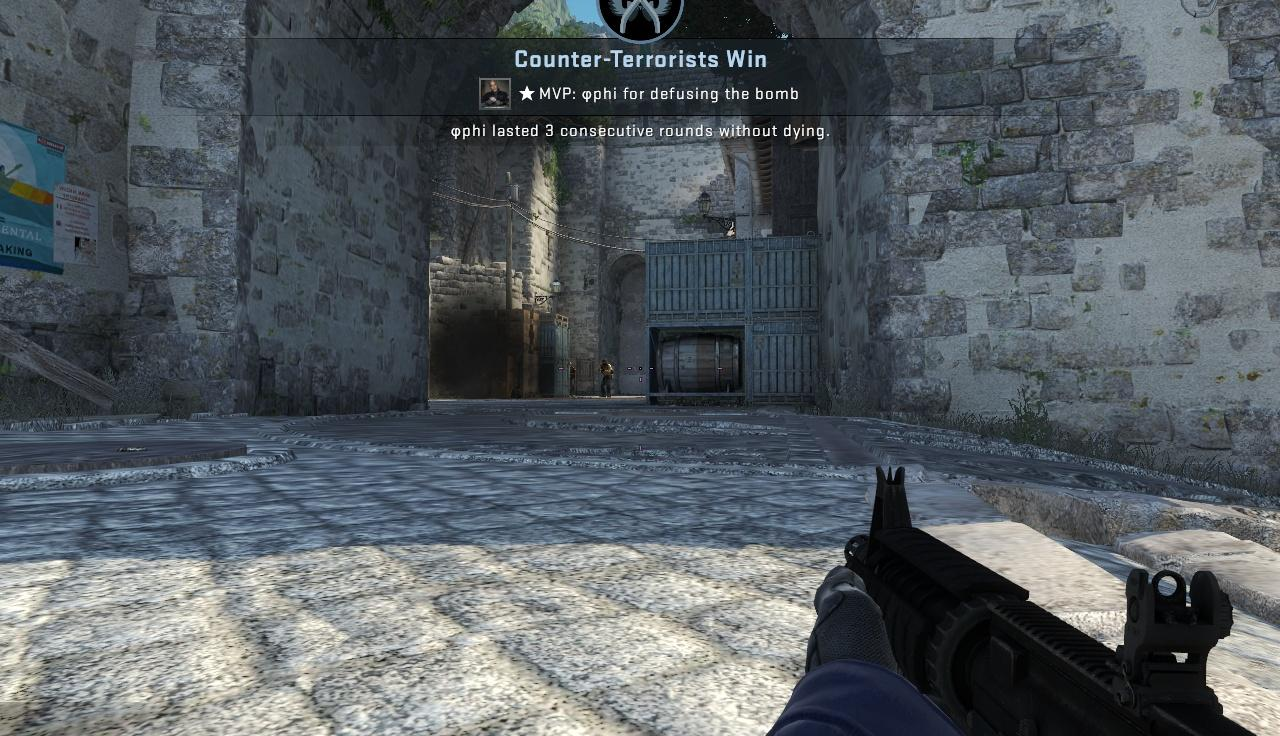rifle: (824, 472, 1280, 736)
tt: (599, 360, 612, 397)
tthead: (601, 359, 607, 367)
